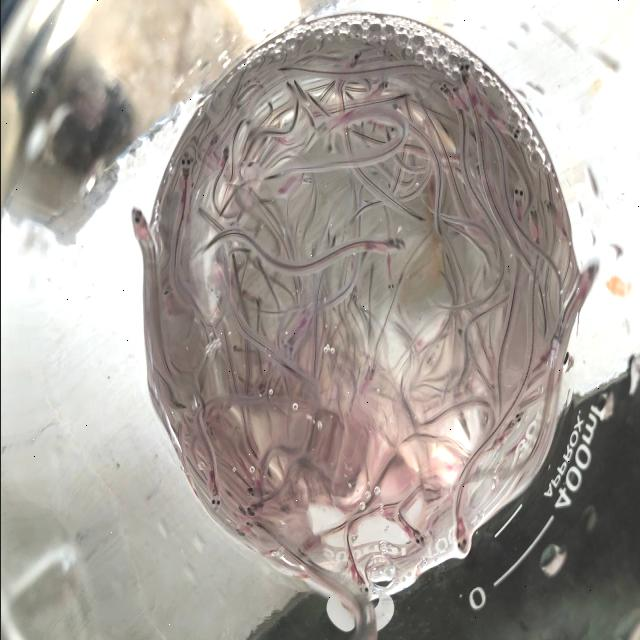glass_eel: (122, 202, 152, 248), (572, 260, 600, 306), (378, 228, 412, 256), (521, 198, 542, 238), (451, 54, 473, 90), (506, 180, 530, 212), (504, 120, 526, 154), (372, 66, 394, 99), (452, 524, 472, 558), (427, 75, 450, 103), (176, 150, 193, 187), (206, 486, 223, 520), (346, 46, 368, 72), (407, 528, 428, 554), (218, 135, 232, 173), (379, 276, 399, 300), (352, 577, 372, 601), (508, 406, 528, 429), (536, 196, 558, 216), (156, 284, 177, 304), (206, 126, 222, 152), (346, 286, 362, 310), (244, 500, 260, 520), (256, 378, 270, 398), (420, 350, 434, 369), (232, 524, 248, 540), (229, 340, 243, 358), (366, 362, 378, 382), (303, 170, 316, 188), (454, 326, 467, 344), (384, 122, 398, 138), (243, 485, 256, 497), (241, 516, 254, 528)
